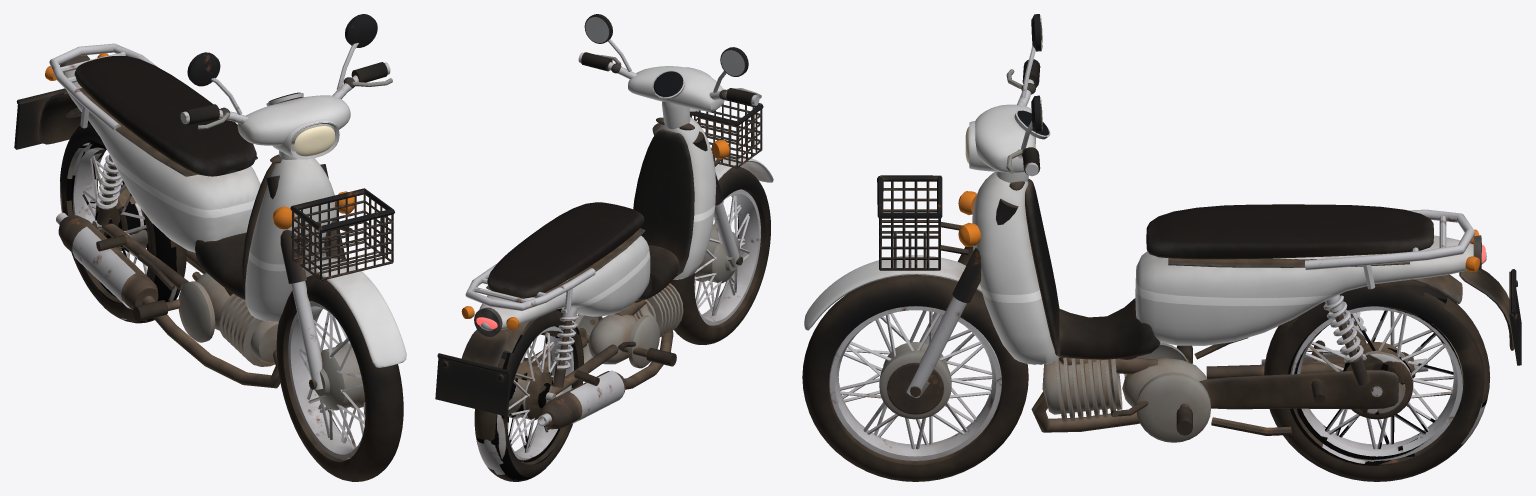
Rendered from CustomerBikeV2.fbx.
3 views of the same model, side by side, from view 1: azimuth 30°, elevation 25°; view 2: azimuth 150°, elevation 25°; view 3: azimuth 270°, elevation 25° (orthographic). The views are drawn at different scales.
Parts seen in each view (by area): view 1: CustomerBike, BodyPaint, FrontWheel, HandlebarPaint, RearWheel, Handlebar, LicensePlateFrame, Headlight_Neon; view 2: CustomerBike, FrontWheel, RearWheel, BodyPaint, Handlebar, HandlebarPaint, LicensePlateFrame; view 3: CustomerBike, FrontWheel, BodyPaint, RearWheel, HandlebarPaint, Handlebar, LicensePlateFrame.
Boxes of the visible parts, bbox=[...] form: CustomerBike: bbox=[39, 43, 394, 388]; BodyPaint: bbox=[64, 69, 339, 321]; FrontWheel: bbox=[276, 274, 403, 481]; HandlebarPaint: bbox=[237, 95, 406, 367]; RearWheel: bbox=[60, 120, 186, 323]; Handlebar: bbox=[180, 14, 392, 390]; LicensePlateFrame: bbox=[14, 88, 81, 149]; Headlight_Neon: bbox=[294, 126, 335, 156]; CustomerBike: bbox=[461, 99, 763, 429]; FrontWheel: bbox=[670, 165, 770, 344]; RearWheel: bbox=[474, 308, 583, 481]; BodyPaint: bbox=[479, 117, 716, 330]; Handlebar: bbox=[578, 14, 761, 267]; HandlebarPaint: bbox=[628, 66, 773, 182]; LicensePlateFrame: bbox=[435, 353, 511, 416]; CustomerBike: bbox=[877, 175, 1514, 442]; FrontWheel: bbox=[802, 275, 1028, 481]; BodyPaint: bbox=[972, 171, 1486, 364]; RearWheel: bbox=[1264, 280, 1490, 481]; HandlebarPaint: bbox=[804, 104, 1035, 330]; Handlebar: bbox=[906, 14, 1050, 397]; LicensePlateFrame: bbox=[1509, 269, 1521, 365].
Size of the model in its own units: 63.84 by 119 by 183.
8 materials, 6 textured.
